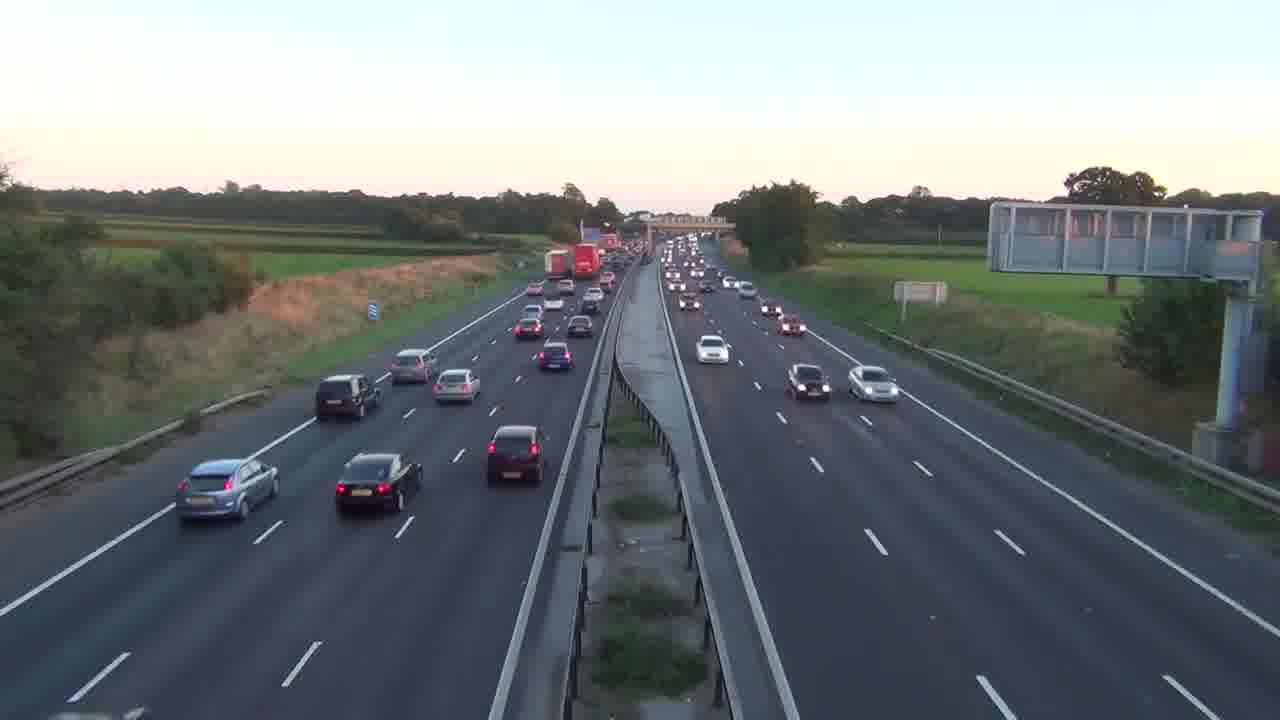car: (175, 457, 279, 521), (334, 450, 423, 514), (486, 424, 548, 484), (848, 365, 900, 404), (431, 368, 481, 404), (785, 362, 832, 400), (390, 348, 432, 385), (534, 343, 576, 371), (696, 334, 731, 365)
truck: (315, 372, 378, 420)
